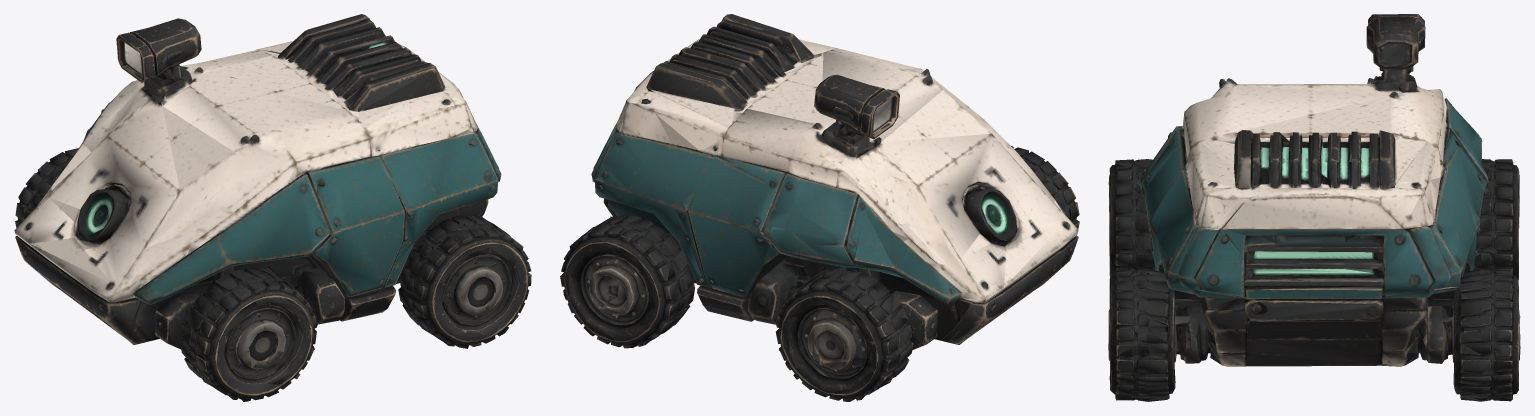
The model's file is drone.glb.
3 renders of one model, left to right at view 1: azimuth 30°, elevation 25°; view 2: azimuth 150°, elevation 25°; view 3: azimuth 270°, elevation 25°, orthographic. The views are drawn at different scales.
Parts seen in each view (by area): view 1: Mesh_0; view 2: Mesh_0; view 3: Mesh_0.
Part boxes in pixels (x1=…): Mesh_0: x1=14, y1=14, x2=531, y2=401; Mesh_0: x1=560, y1=14, x2=1079, y2=401; Mesh_0: x1=1108, y1=14, x2=1520, y2=401.
Bounding box in the file's own units: 2.41 × 1.6 × 2.14.
Materials: 1 (1 with a texture image).
